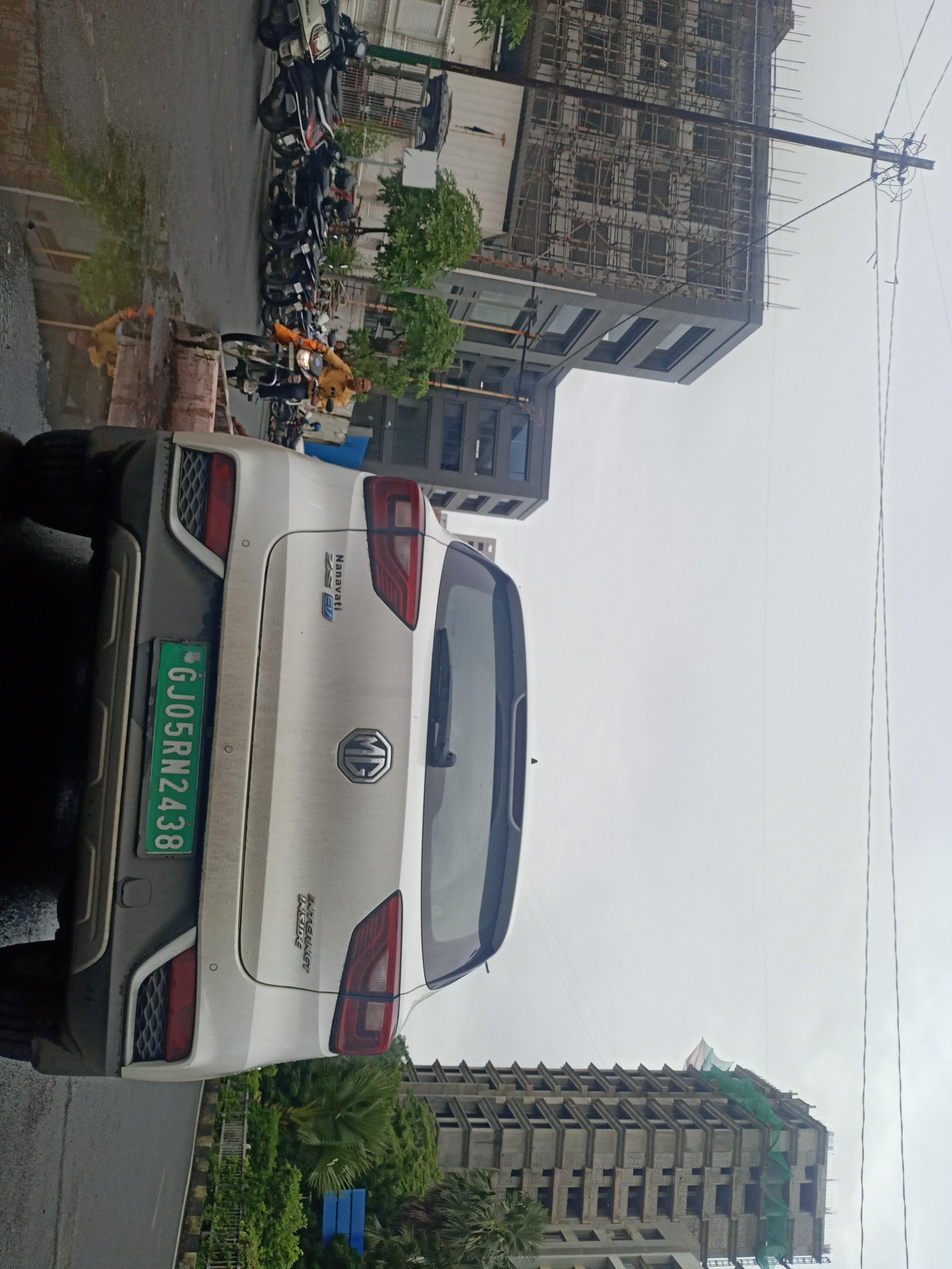green license plate: (136, 639, 210, 862)
